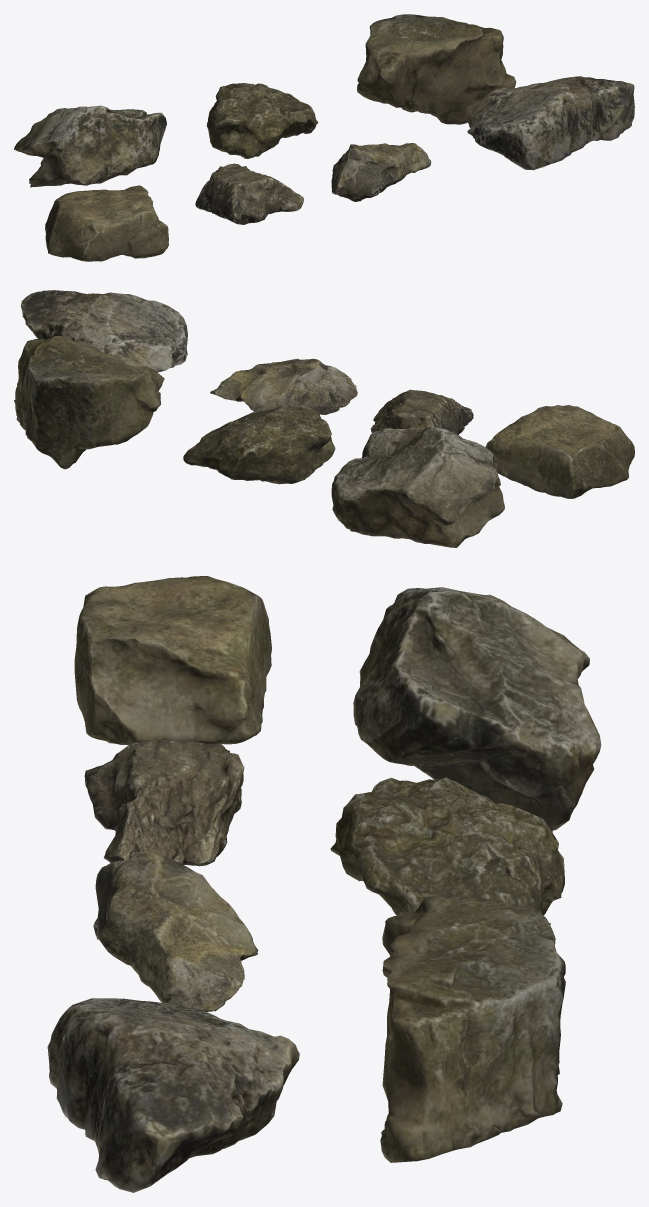
Rendered from rock_moss_set_02.glb.
The picture shows the model from 3 angles, top to bottom: view 1: azimuth 30°, elevation 25°; view 2: azimuth 150°, elevation 25°; view 3: azimuth 270°, elevation 25°; orthographic projection. The views are drawn at different scales.
Parts seen in each view (by area): view 1: rock_moss_set_02_rock13, rock_moss_set_02_rock10, rock_moss_set_02_rock11, rock_moss_set_02_rock07, rock_moss_set_02_rock12, rock_moss_set_02_rock08, rock_moss_set_02_rock09; view 2: rock_moss_set_02_rock11, rock_moss_set_02_rock13, rock_moss_set_02_rock07, rock_moss_set_02_rock10, rock_moss_set_02_rock12, rock_moss_set_02_rock09, rock_moss_set_02_rock08; view 3: rock_moss_set_02_rock13, rock_moss_set_02_rock11, rock_moss_set_02_rock10, rock_moss_set_02_rock07, rock_moss_set_02_rock12, rock_moss_set_02_rock09, rock_moss_set_02_rock08.
Part boxes in pixels (x1,y1,x2,y2): rock_moss_set_02_rock13: [357, 14, 516, 124]; rock_moss_set_02_rock10: [467, 76, 634, 170]; rock_moss_set_02_rock11: [14, 105, 166, 187]; rock_moss_set_02_rock07: [45, 185, 168, 261]; rock_moss_set_02_rock12: [206, 83, 318, 158]; rock_moss_set_02_rock08: [195, 163, 303, 224]; rock_moss_set_02_rock09: [331, 143, 431, 201]; rock_moss_set_02_rock11: [331, 426, 504, 547]; rock_moss_set_02_rock13: [14, 336, 164, 469]; rock_moss_set_02_rock07: [485, 405, 634, 498]; rock_moss_set_02_rock10: [21, 290, 187, 372]; rock_moss_set_02_rock12: [183, 405, 335, 484]; rock_moss_set_02_rock09: [210, 358, 357, 414]; rock_moss_set_02_rock08: [370, 389, 473, 434]; rock_moss_set_02_rock13: [380, 894, 565, 1162]; rock_moss_set_02_rock11: [353, 587, 601, 832]; rock_moss_set_02_rock10: [47, 998, 299, 1192]; rock_moss_set_02_rock07: [74, 576, 271, 745]; rock_moss_set_02_rock12: [330, 777, 564, 925]; rock_moss_set_02_rock09: [93, 850, 258, 1011]; rock_moss_set_02_rock08: [84, 740, 244, 866].
Bounding box in the file's own units: 8.28 × 1.36 × 3.41.
Materials: 1 (1 with a texture image).
